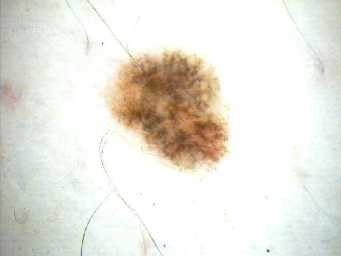nevus: (106, 55, 230, 167)
